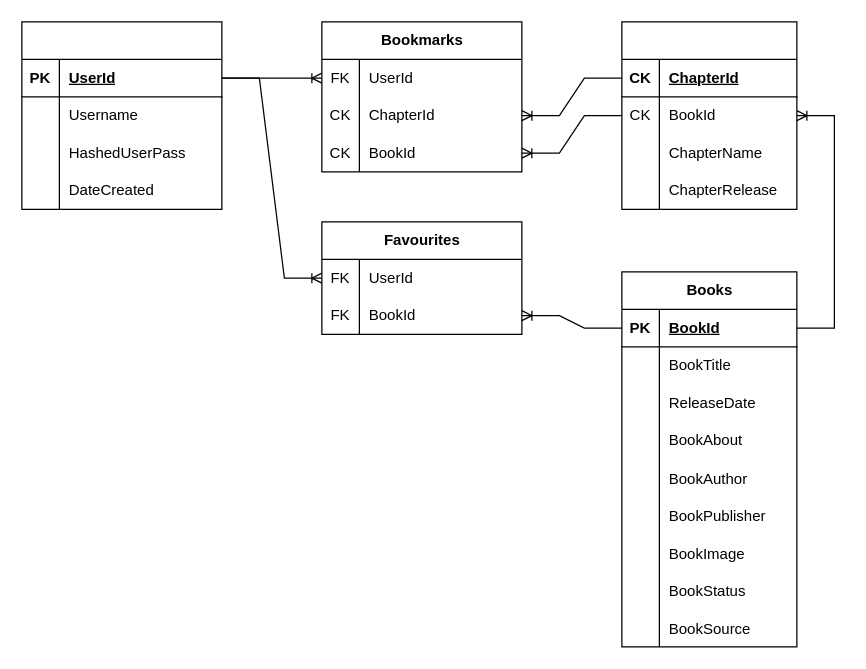
The diagram is 866 pixels wide and 669 high, and some of its shapes have lost their labels. The box of each missing label's shape, as (x1, y1, x2, y2) in pixels:
Chapters: (621, 21, 797, 209)
Users: (21, 21, 222, 209)
